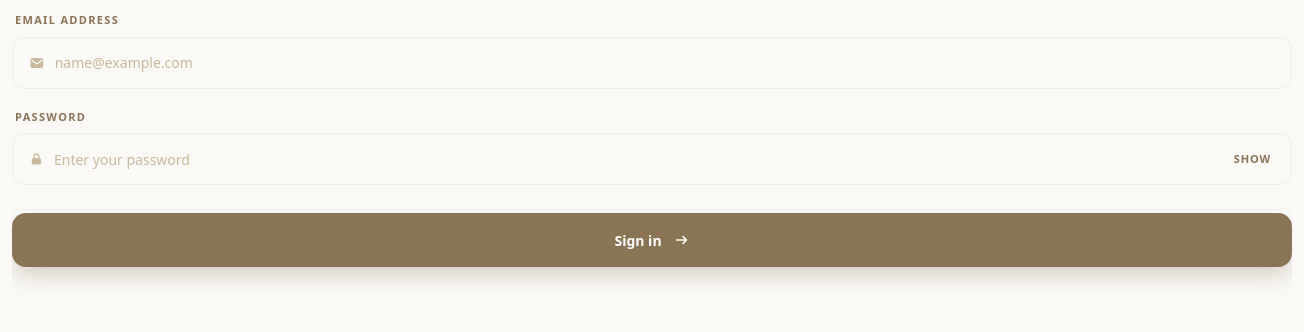
Test: LoginForm › shows a form-level error returned by the action
Type "ada@example.com" into the field labelled "EMAIL ADDRESS" at (665, 62), box [55, 38, 1275, 88]
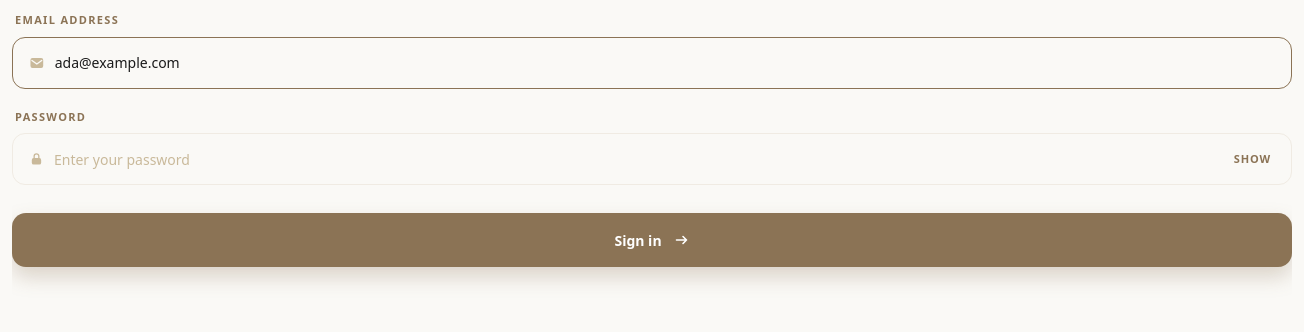
Type "wrong" into the password field labelled "PASSWORD" at (637, 159), box [54, 134, 1220, 184]
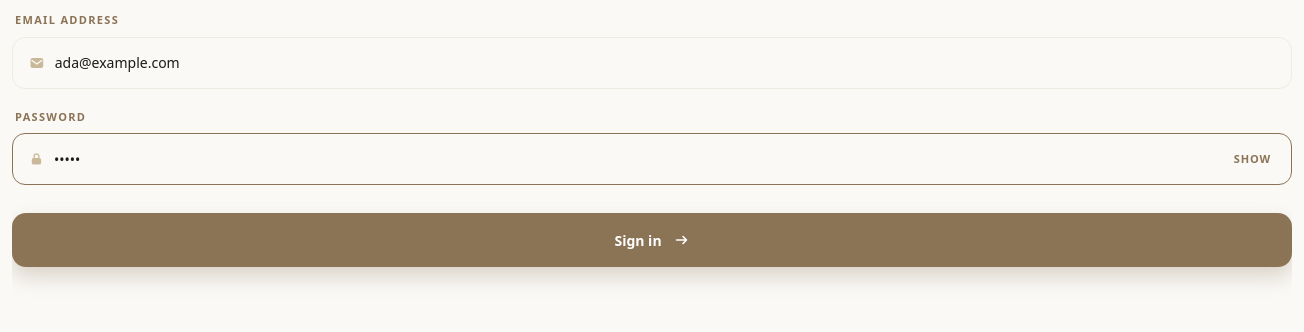
Click the button "Sign in" at (652, 240), box [12, 213, 1292, 267]
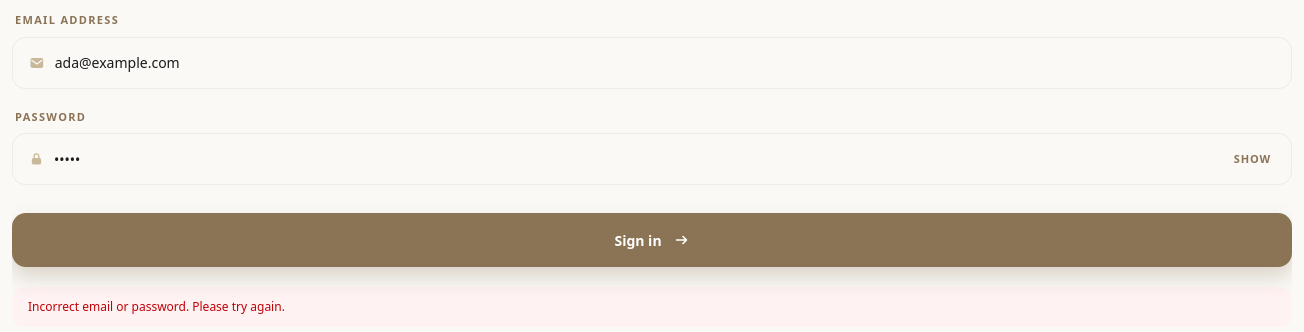
expect the message shows "Incorrect email or password": met, box [28, 298, 285, 315]
